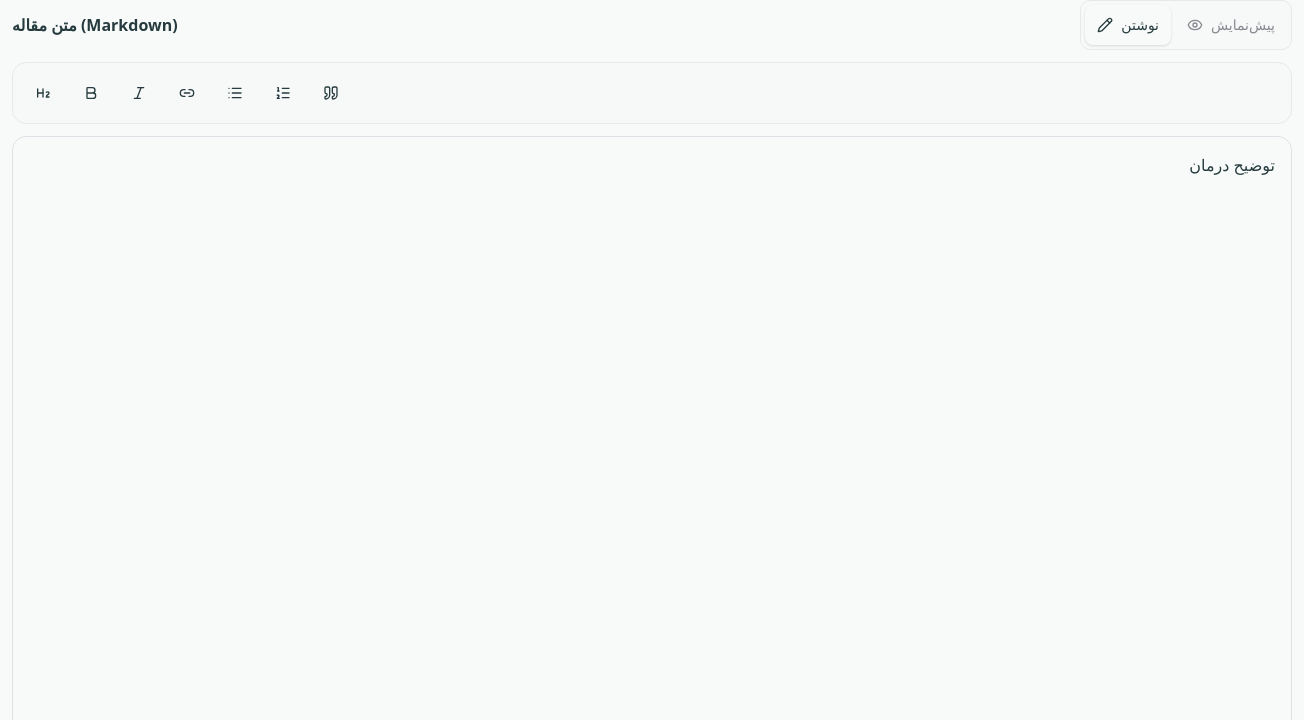
MarkdownEditor › inserts Markdown around a selection without submitting the form
Click the button named "پررنگ" at (91,93), box x1=69 y1=71 x2=113 y2=115
(page scrolled)
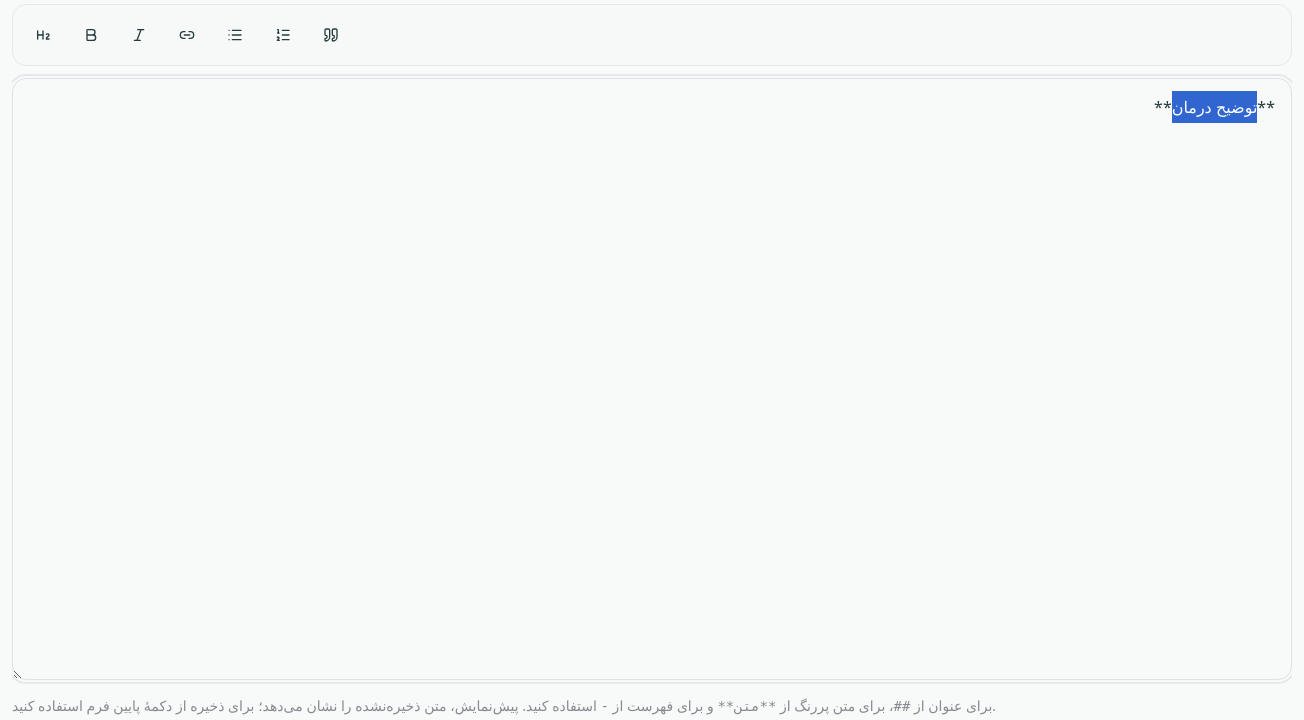
Check: the text box labelled "متن مقاله (Markdown)" holds "**توضیح درمان**"
